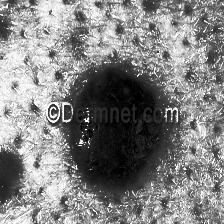Benign Marking or Mole: (73, 76, 158, 179)
